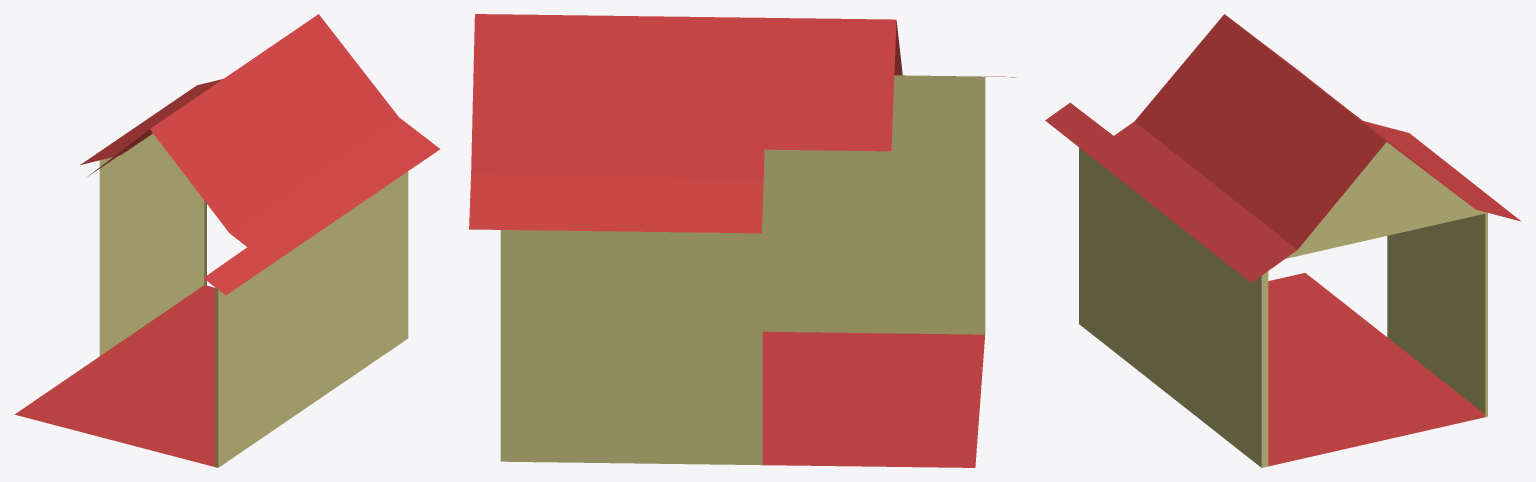
The picture shows the model from 3 angles, left to right: view 1: azimuth 30°, elevation 25°; view 2: azimuth 150°, elevation 25°; view 3: azimuth 270°, elevation 25°; orthographic projection. The views are drawn at different scales.
Bounding box in the file's own units: 19.78 × 19.03 × 13.64.
